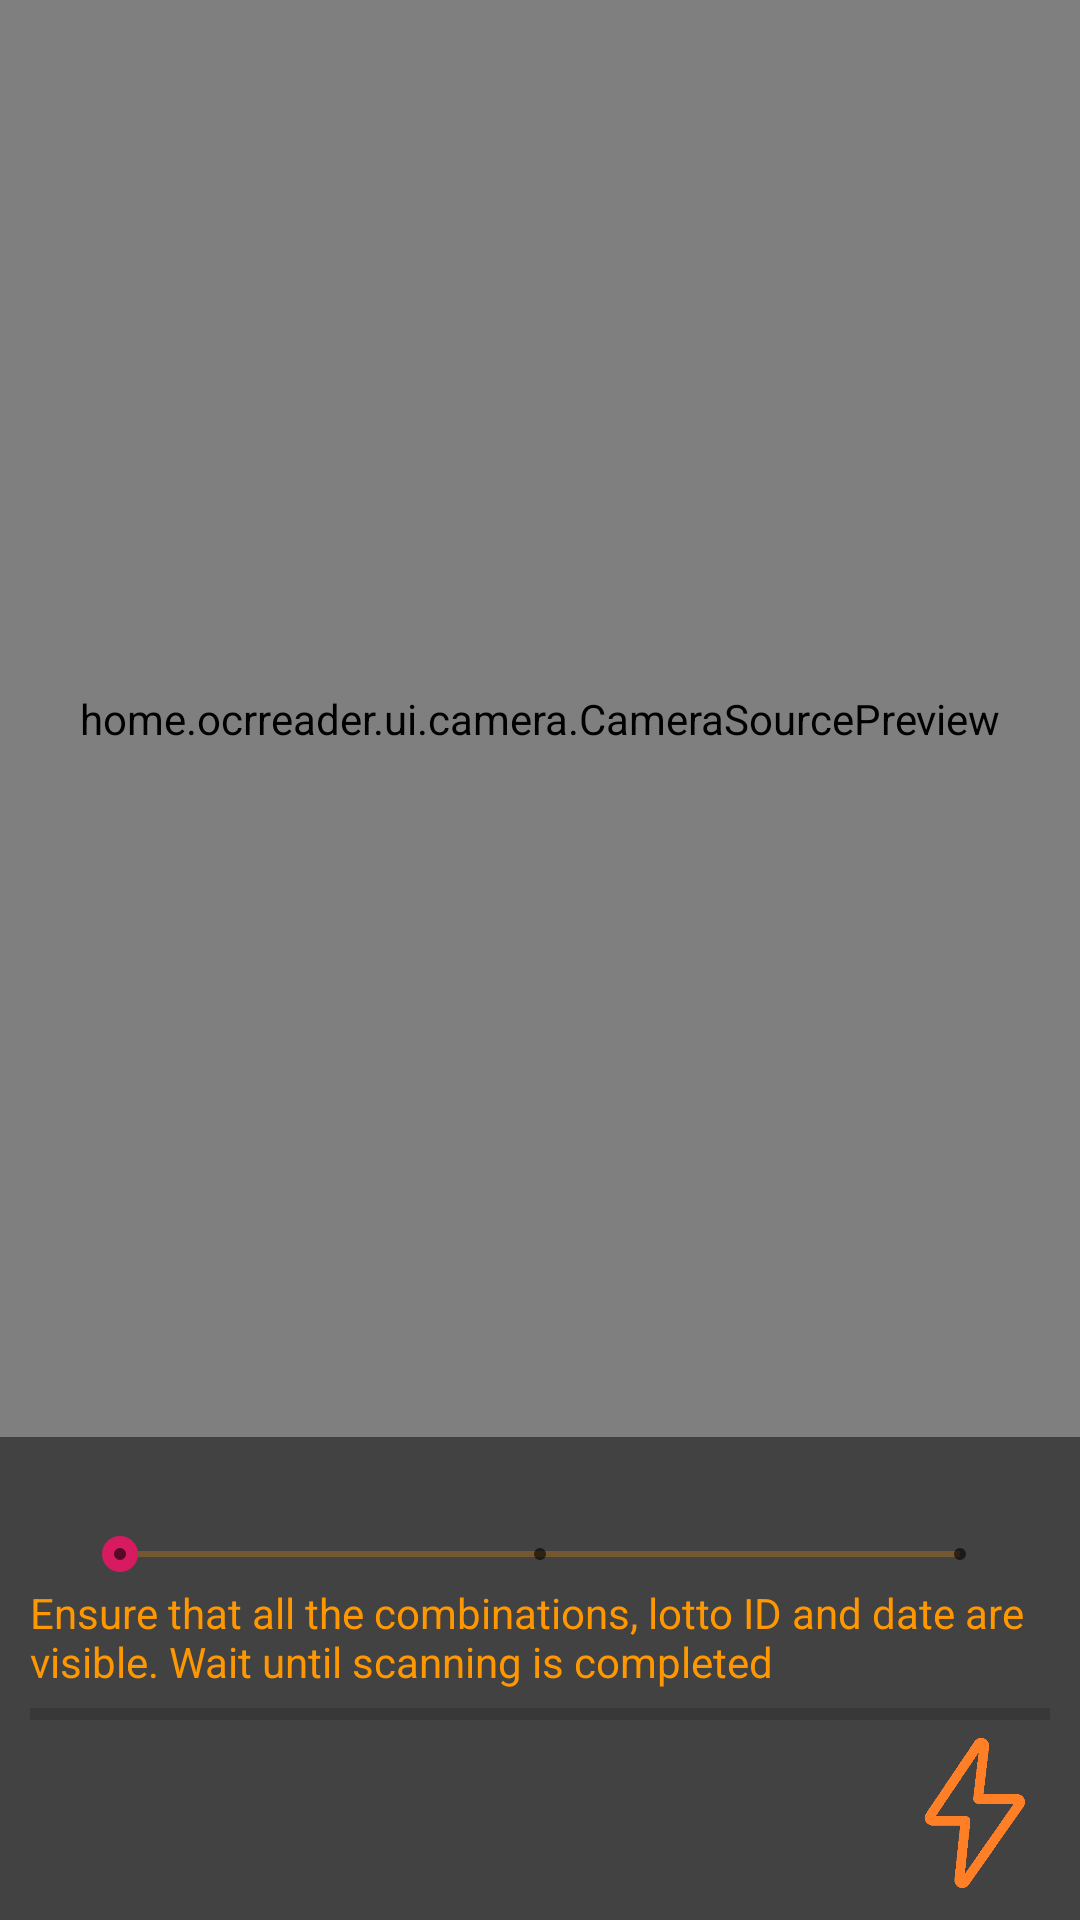

Screen size 1080×1920. Icon name, then its center in pixels as [x,y]:
flash toggle: [975,1813]
